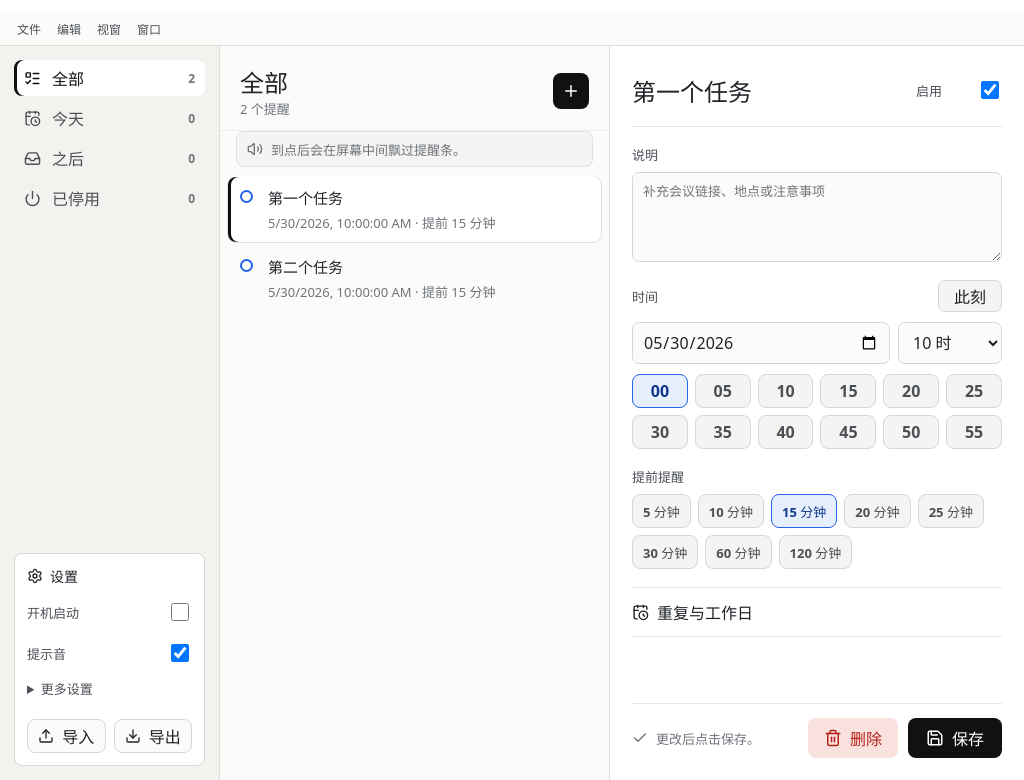
Test: renderer reminder creation › switches the editor when a different reminder is clicked
Check: the field with class "title-input" holds "第一个任务", box [632,68,900,112]
Click the button with class "reminder-row" that starts with "第二个任务". click: x=306, y=267
box: [228,246,601,311]
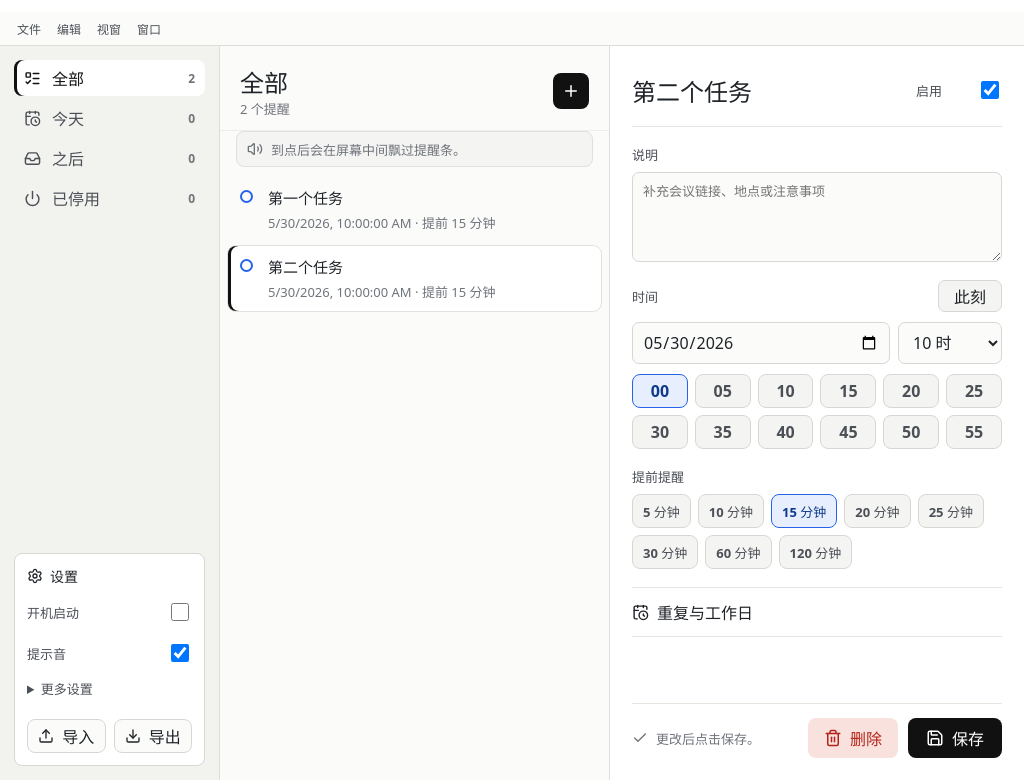
Check: the field with class "title-input" holds "第二个任务", box [632,68,900,112]
